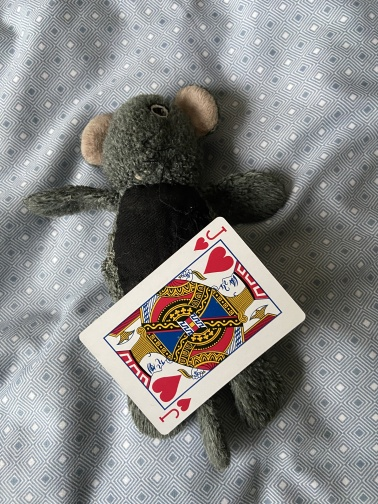jack: (77, 214, 307, 437)
